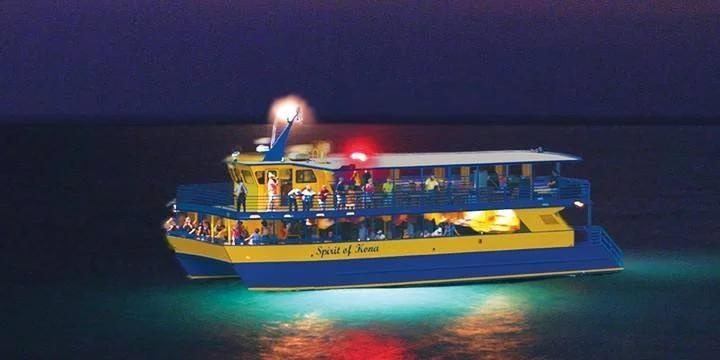otherboat: (155, 105, 625, 291)
